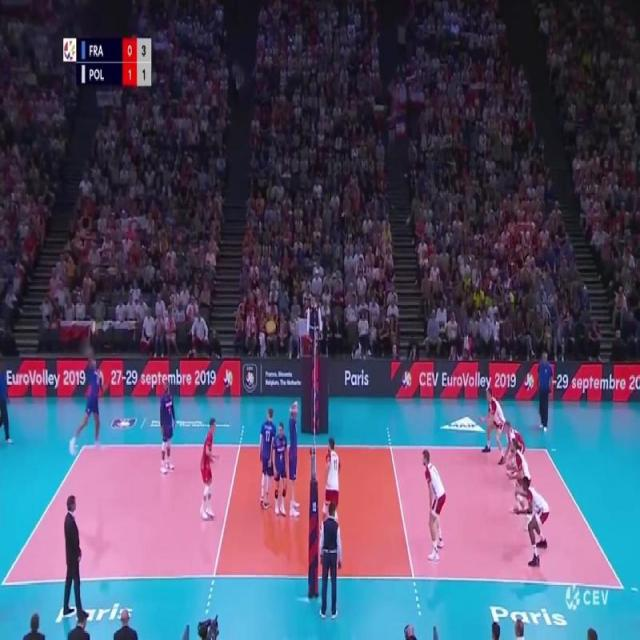volleyball: (90, 321, 98, 335)
